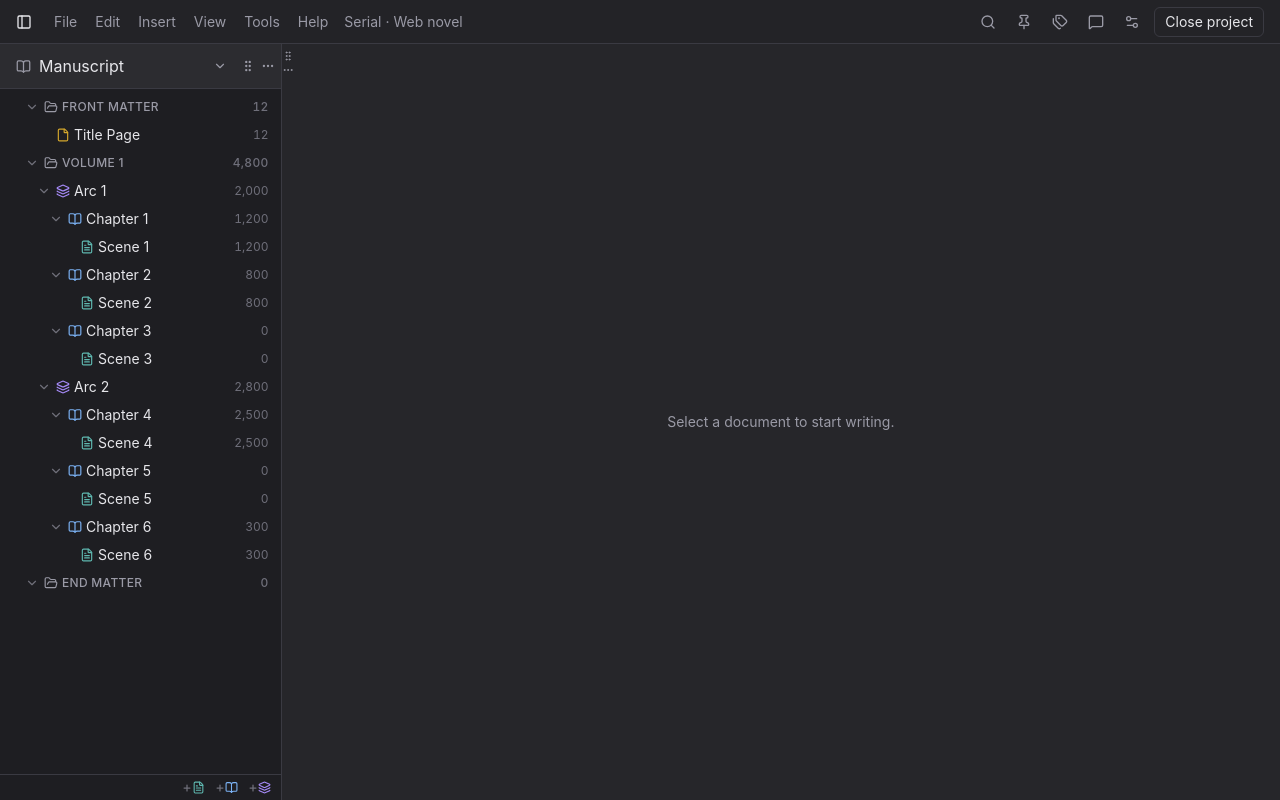
Scenario: App › selecting a document in the tree shows it in the main pane (F-2.1)
The width and height of the screenshot is (1280, 800).
Click the text "Scene 1".
click(124, 246)  # box [98,238,149,255]
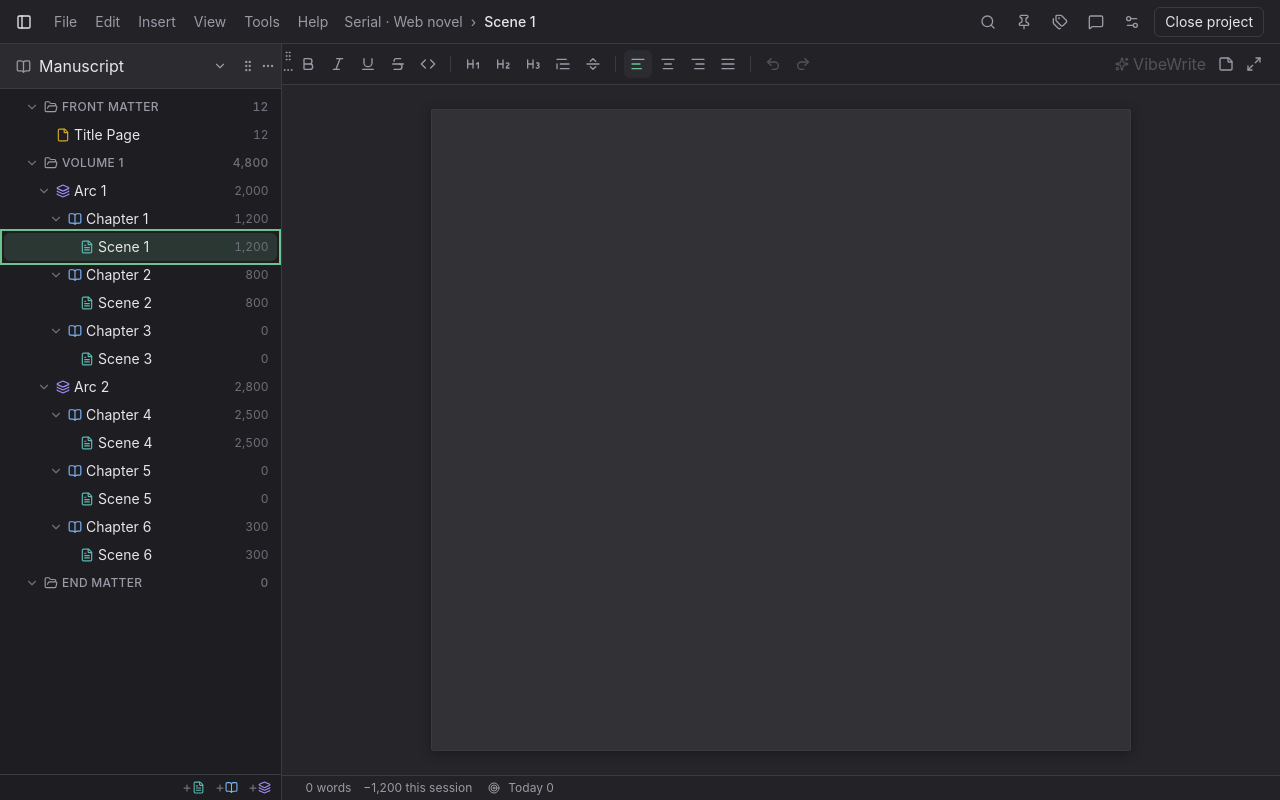
Now the text with test id "selected-title" reads "Scene 1", box [484,12,536,30]
Now the element named "Formatting" is shown, box [282,44,1279,85]
Click the text "Arc 2".
click(92, 386)  # box [74,378,109,395]
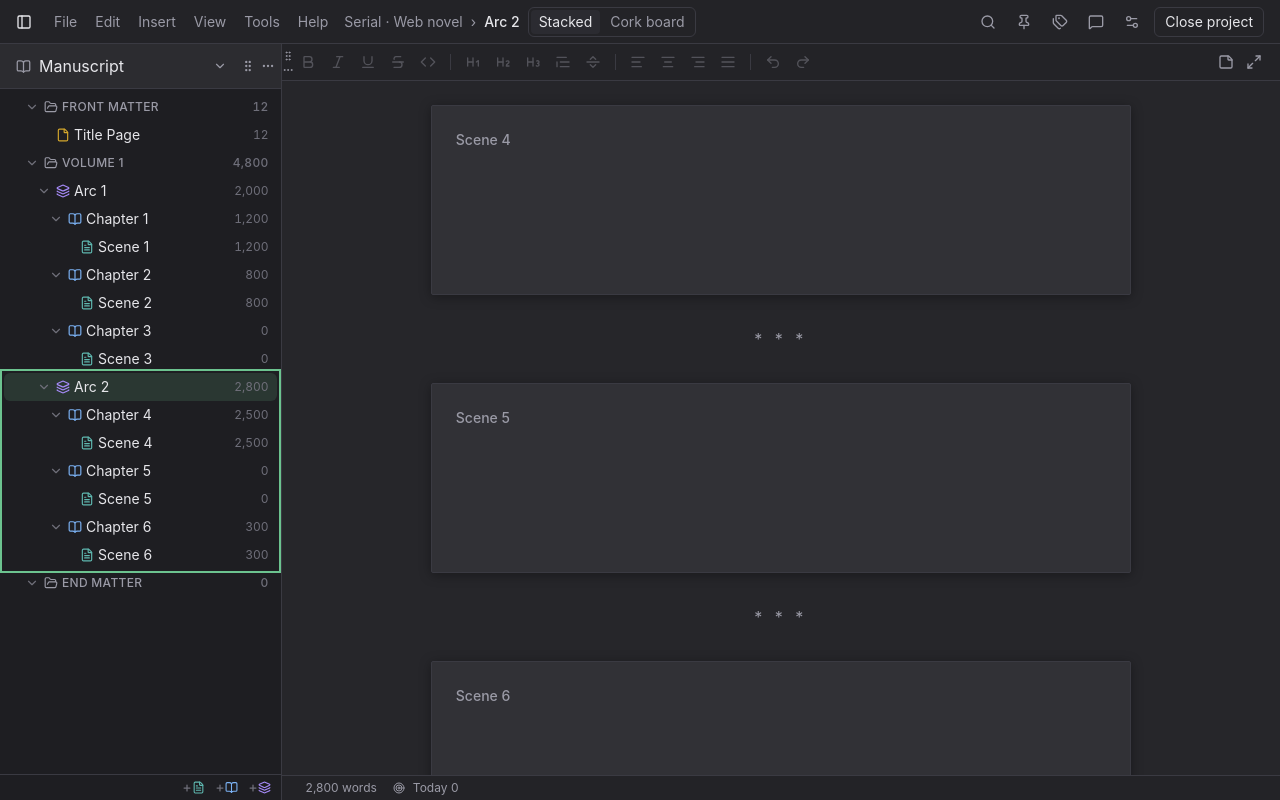
Now the number of elements named "Formatting" is 1, box [282,44,1279,81]
Now the text with test id "selected-title" reads "Arc 2", box [484,12,520,30]
Now the number of fields named "Document" is 3
